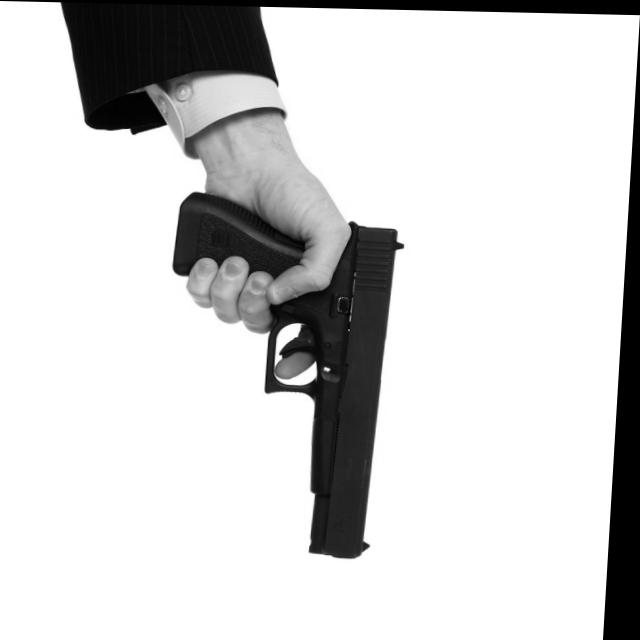handgun: (159, 189, 425, 562)
